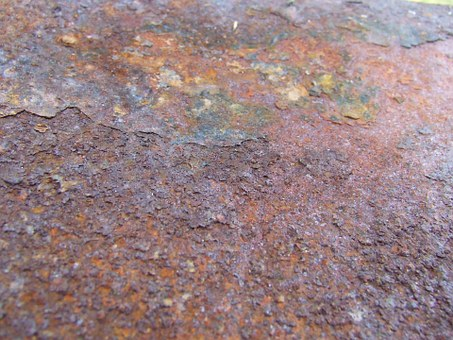rust: (3, 1, 452, 333)
